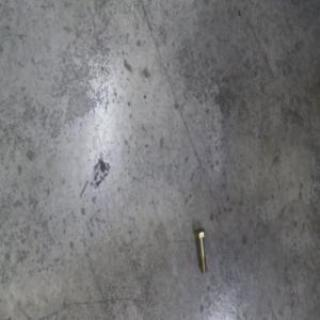Bolttrack_idkeyframe: (192, 226, 205, 274)
